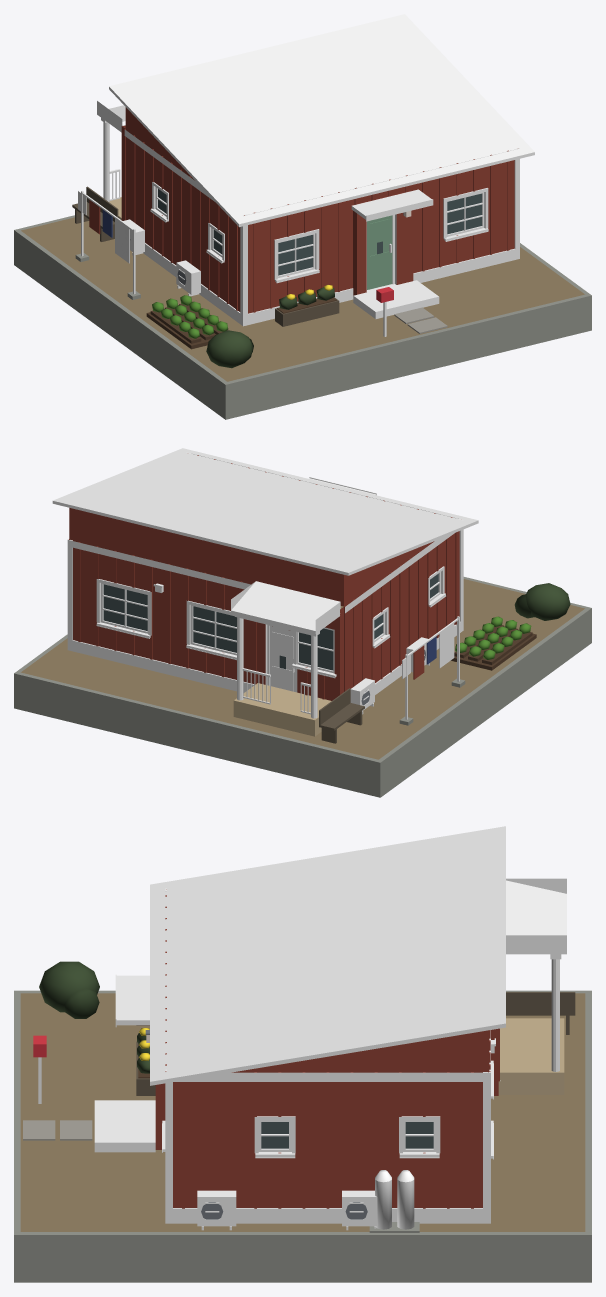
The model's file is site_hut4_close.fbx.
The picture shows the model from 3 angles, top to bottom: view 1: azimuth 30°, elevation 25°; view 2: azimuth 150°, elevation 25°; view 3: azimuth 270°, elevation 25°; orthographic projection. The views are drawn at different scales.
Parts seen in each view (by area): view 1: a2015.site_hut4.close; view 2: a2015.site_hut4.close; view 3: a2015.site_hut4.close.
Boxes of the visible parts, x1,y1,x2,y2 form: a2015.site_hut4.close: (14, 14, 591, 419); a2015.site_hut4.close: (14, 448, 591, 797); a2015.site_hut4.close: (14, 826, 591, 1282).
Size of the model in its own units: 10.4 by 5.05 by 10.4.
